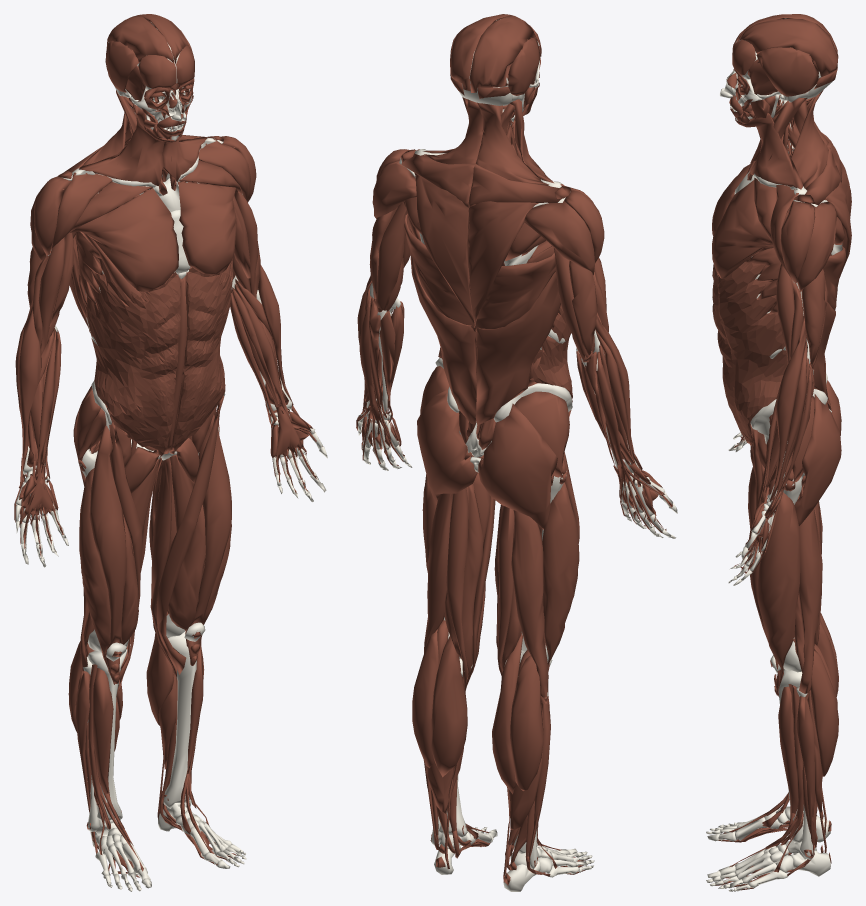
The model's file is body.glb.
3 renders of one model, left to right at view 1: azimuth 30°, elevation 25°; view 2: azimuth 150°, elevation 25°; view 3: azimuth 270°, elevation 25°, orthographic. The views are drawn at different scales.
Visible parts, largest first — view 1: Lateral rectus muscle, Parietal bone.001, Subtendinous bursa of trapezius muscle.001; view 2: Lateral rectus muscle, Parietal bone.001, Frontal bone, Subtendinous bursa of trapezius muscle.001; view 3: Lateral rectus muscle, Parietal bone.001, Subtendinous bursa of trapezius muscle.001, Frontal bone.
Part boxes in pixels (left/top/right/bottom): Lateral rectus muscle: left=14, top=14, right=322, bottom=888; Parietal bone.001: left=15, top=22, right=327, bottom=891; Subtendinous bursa of trapezius muscle.001: left=24, top=136, right=316, bottom=830; Lateral rectus muscle: left=356, top=14, right=672, bottom=882; Parietal bone.001: left=358, top=20, right=677, bottom=891; Frontal bone: left=459, top=41, right=539, bottom=472; Subtendinous bursa of trapezius muscle.001: left=370, top=149, right=666, bottom=885; Lateral rectus muscle: left=712, top=14, right=851, bottom=890; Parietal bone.001: left=706, top=18, right=842, bottom=891; Subtendinous bursa of trapezius muscle.001: left=740, top=194, right=831, bottom=863; Frontal bone: left=736, top=40, right=832, bottom=412.
Bounding box in the file's own units: 0.6664 × 1.7 × 0.267.
